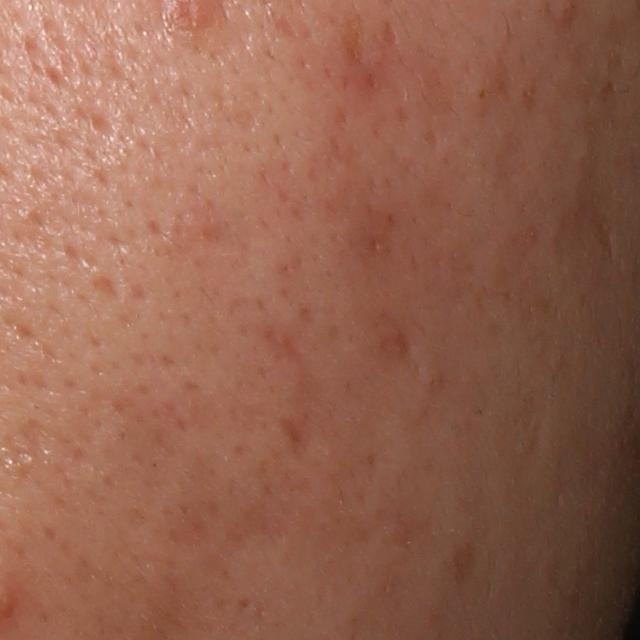atrophic_scar: (267, 316, 334, 454), (2, 312, 38, 341), (87, 275, 122, 304)
papule: (556, 0, 575, 23)
